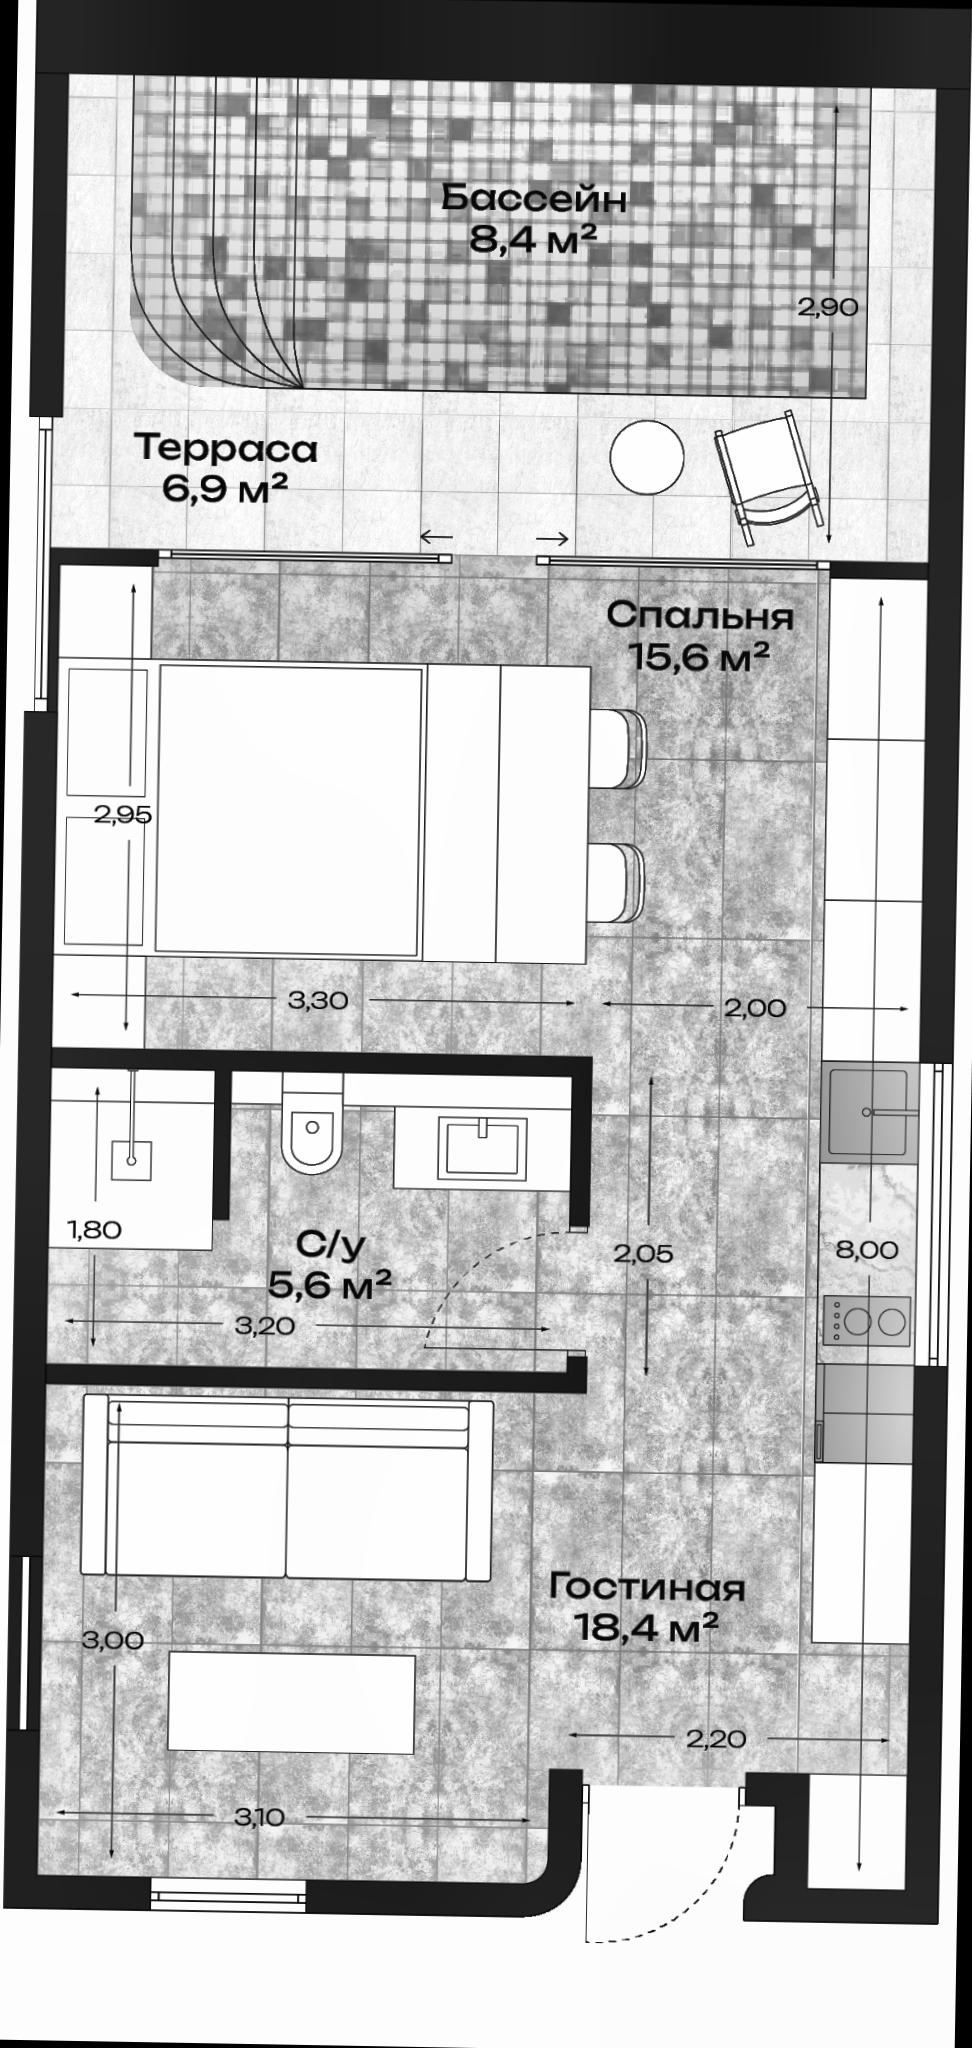door: (580, 1771, 753, 1963), (419, 1220, 592, 1361)
window: (911, 1058, 960, 1374), (149, 1868, 307, 1924)
